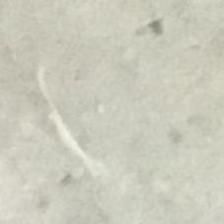Non_Crack: (9, 4, 224, 224)
